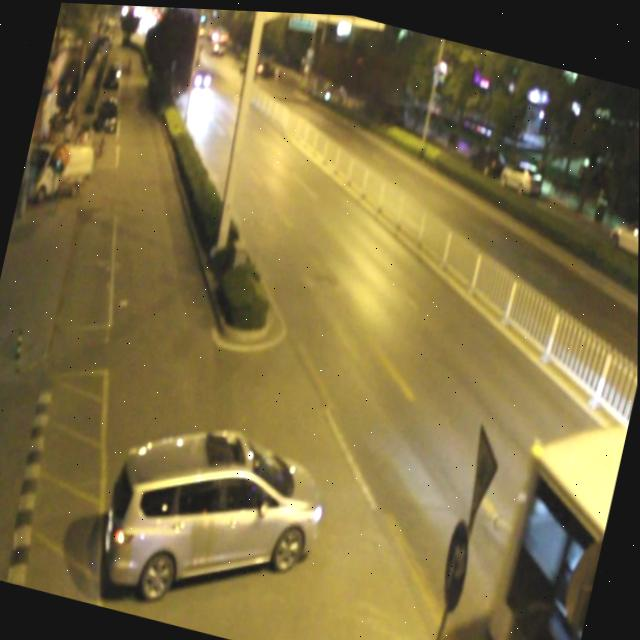car: (100, 406, 330, 626), (189, 65, 213, 88)
van: (471, 393, 629, 640)
